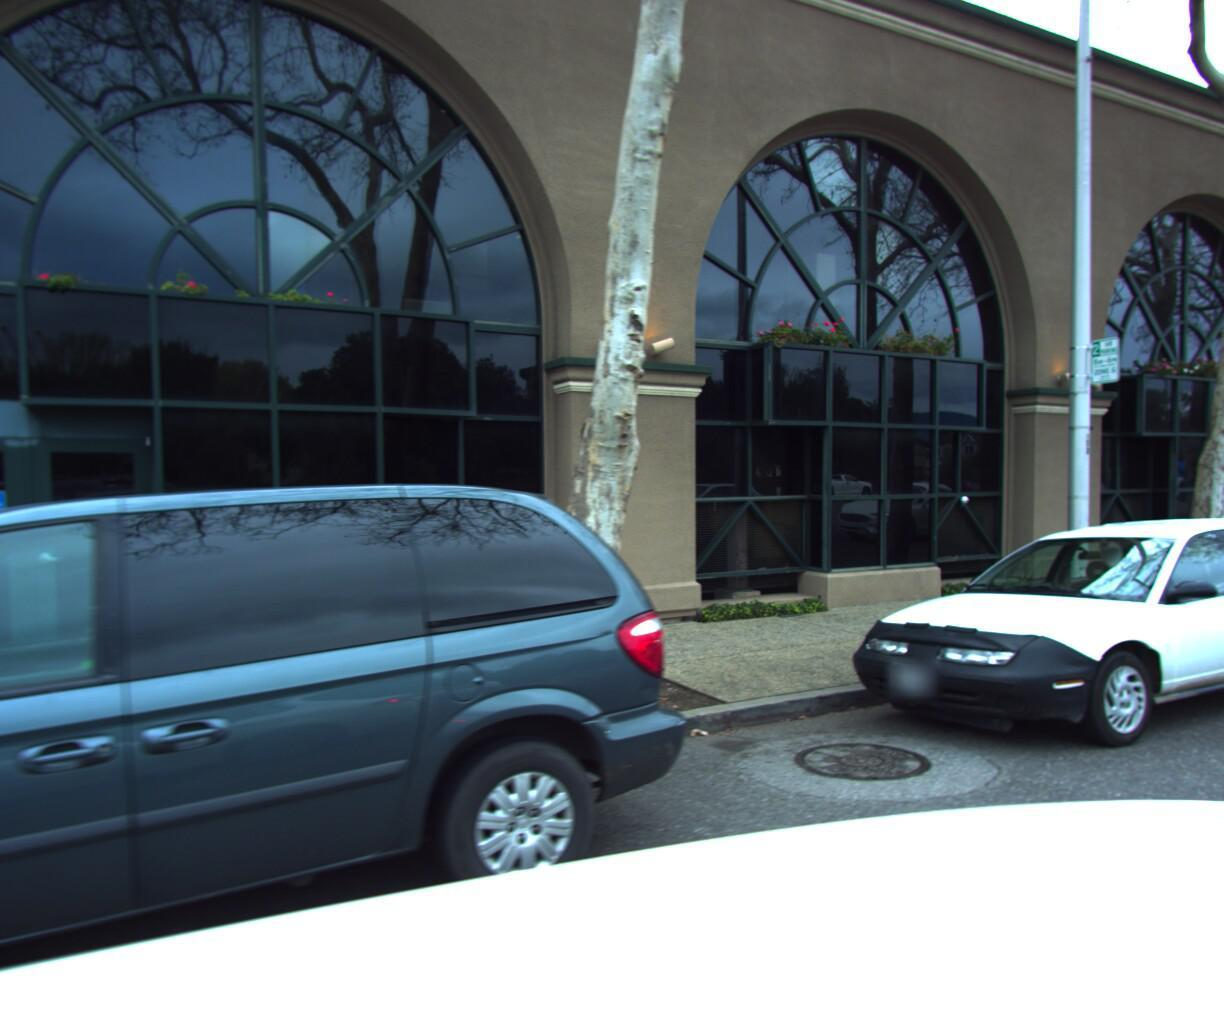car: (0, 468, 742, 1024), (818, 503, 1224, 807)
